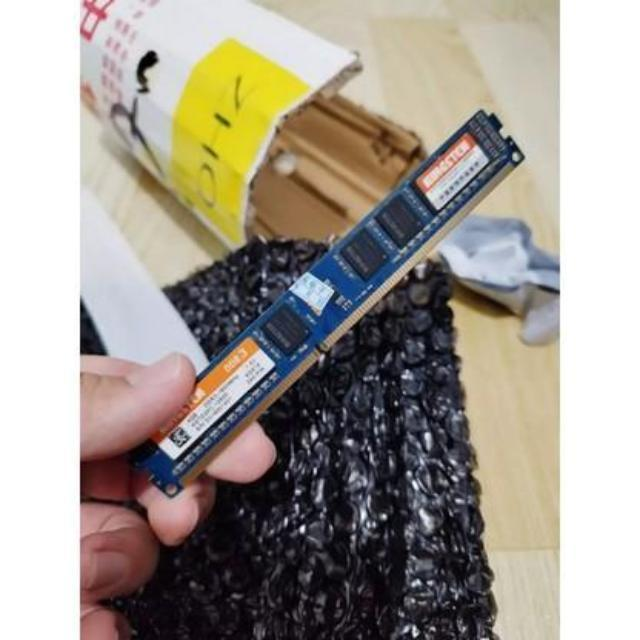RAM: (122, 111, 524, 498)
